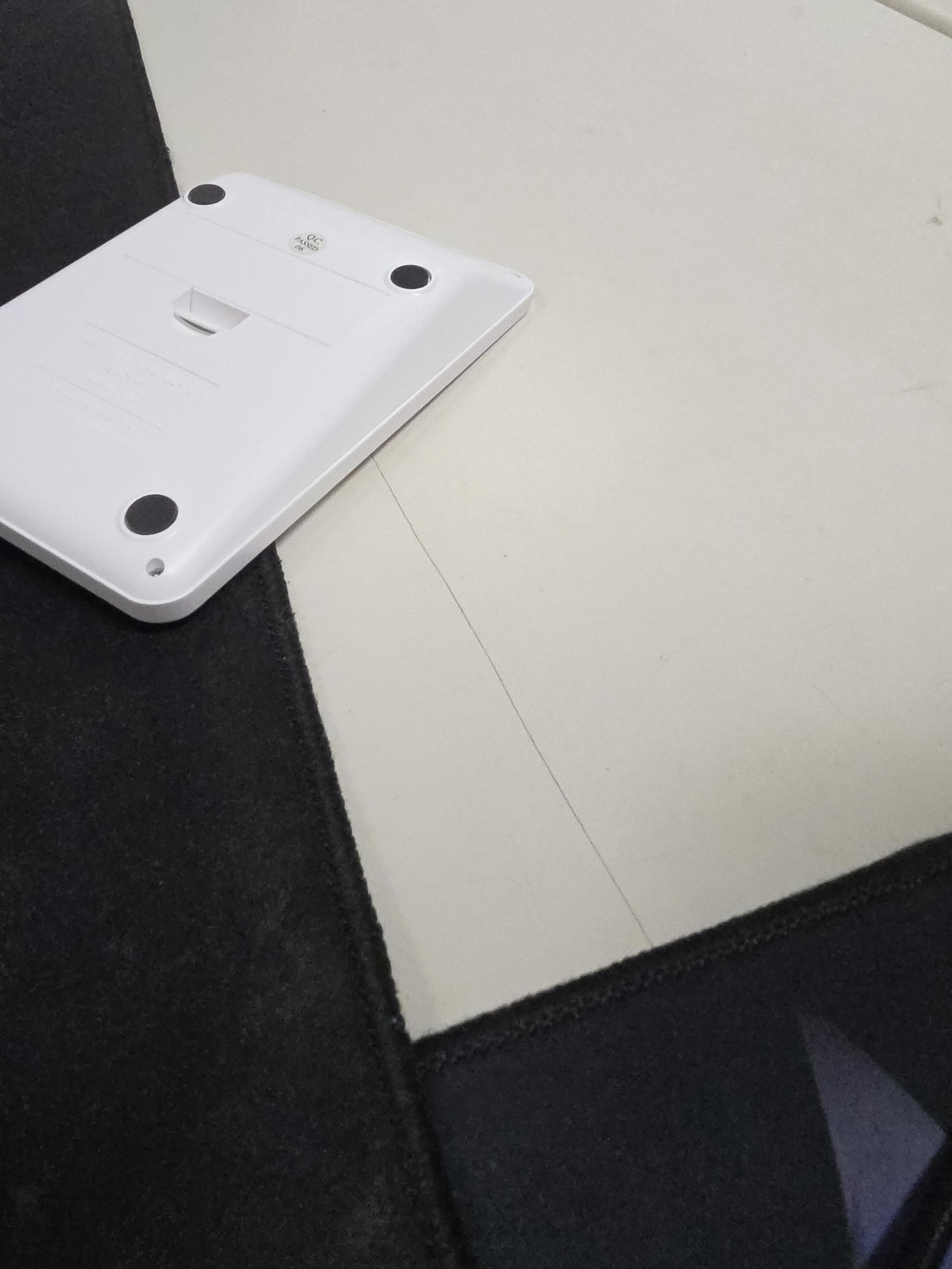calculator: (0, 172, 534, 623)
